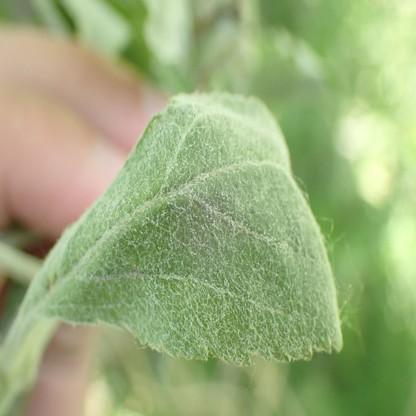powdery_mildew: (24, 92, 345, 362)
